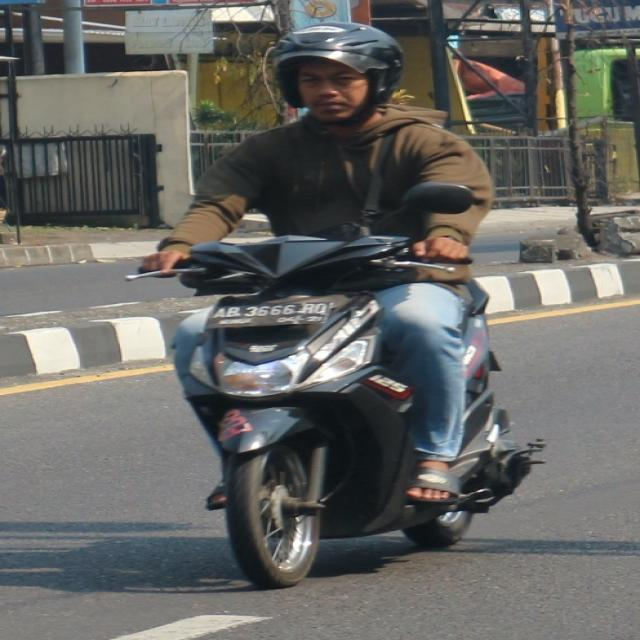Plate-Number: (208, 300, 331, 334)
